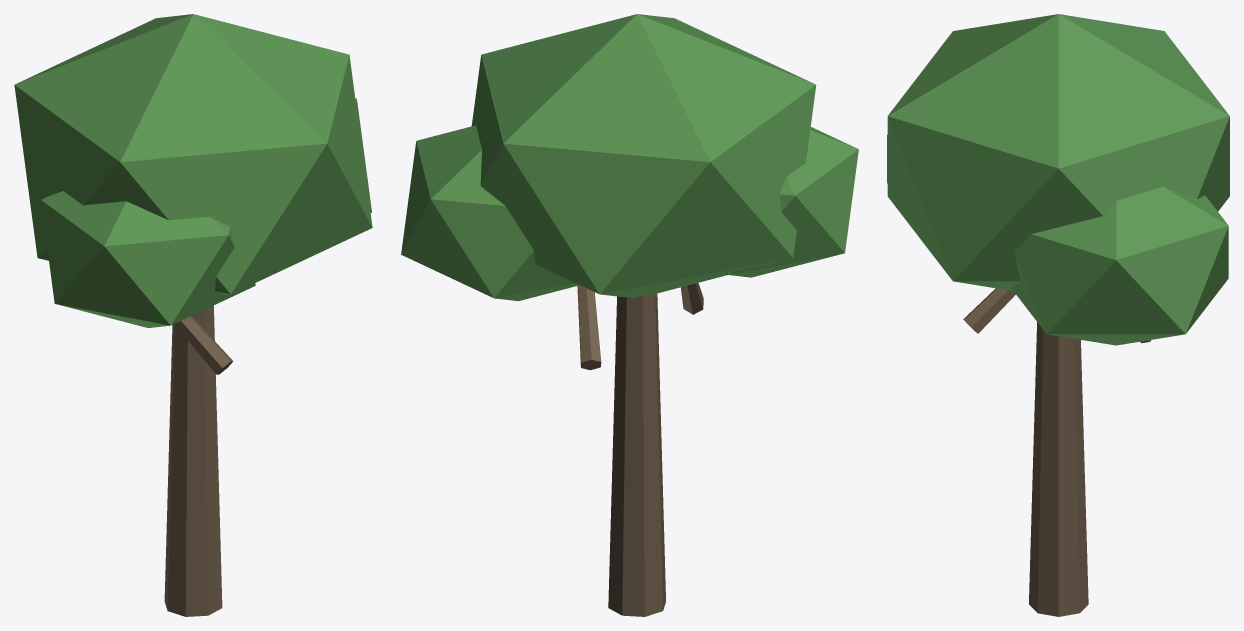
File: tree_oak.glb
3 renders of one model, left to right at view 1: azimuth 30°, elevation 25°; view 2: azimuth 150°, elevation 25°; view 3: azimuth 270°, elevation 25°, orthographic.
Parts seen in each view (by area): view 1: tree_oak; view 2: tree_oak; view 3: tree_oak.
Part boxes in pixels (x1=…): tree_oak: x1=14, y1=14, x2=372, y2=616; tree_oak: x1=401, y1=14, x2=858, y2=616; tree_oak: x1=887, y1=14, x2=1229, y2=616.
Size of the model in its own units: 3.67 by 5.66 by 2.98.
